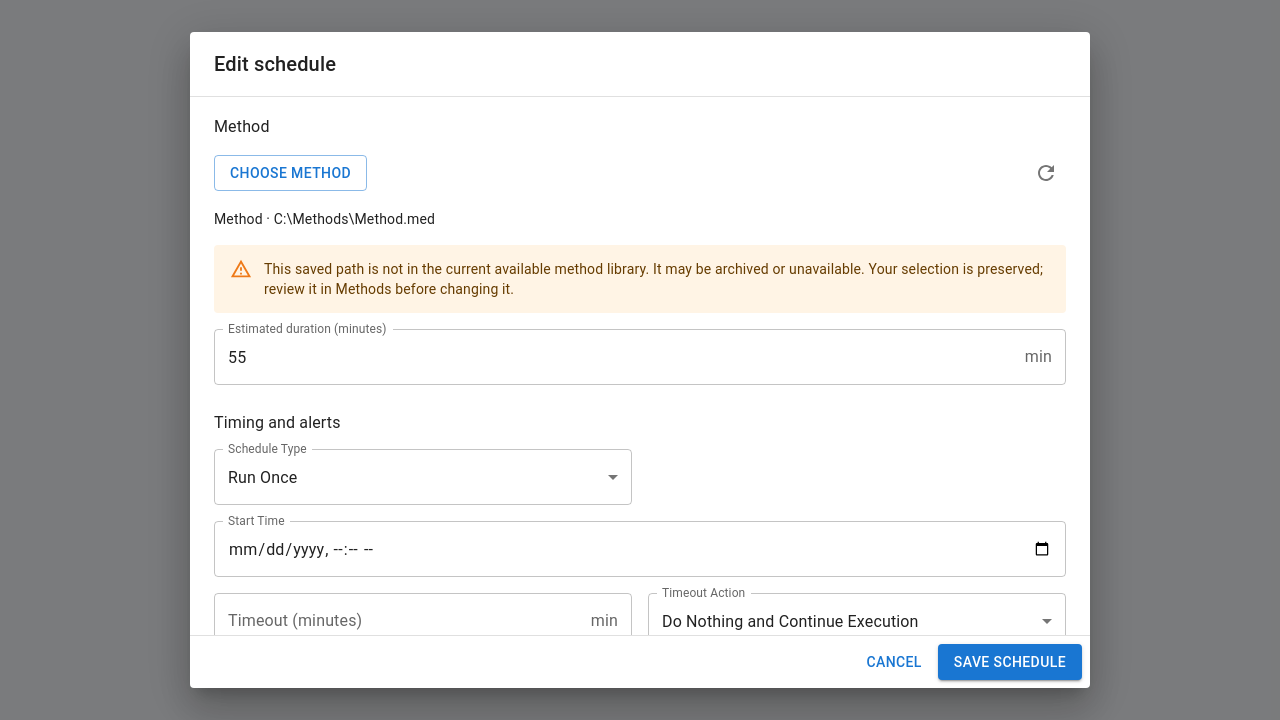
Test case: schedule draft sessions › retains the draft when an edit conflicts and explains how to reload
The width and height of the screenshot is (1280, 720).
Replace the text in the number field labelled "Estimated duration (minutes)" with "61" at (615, 357), box left=214, top=329, right=1017, bottom=385
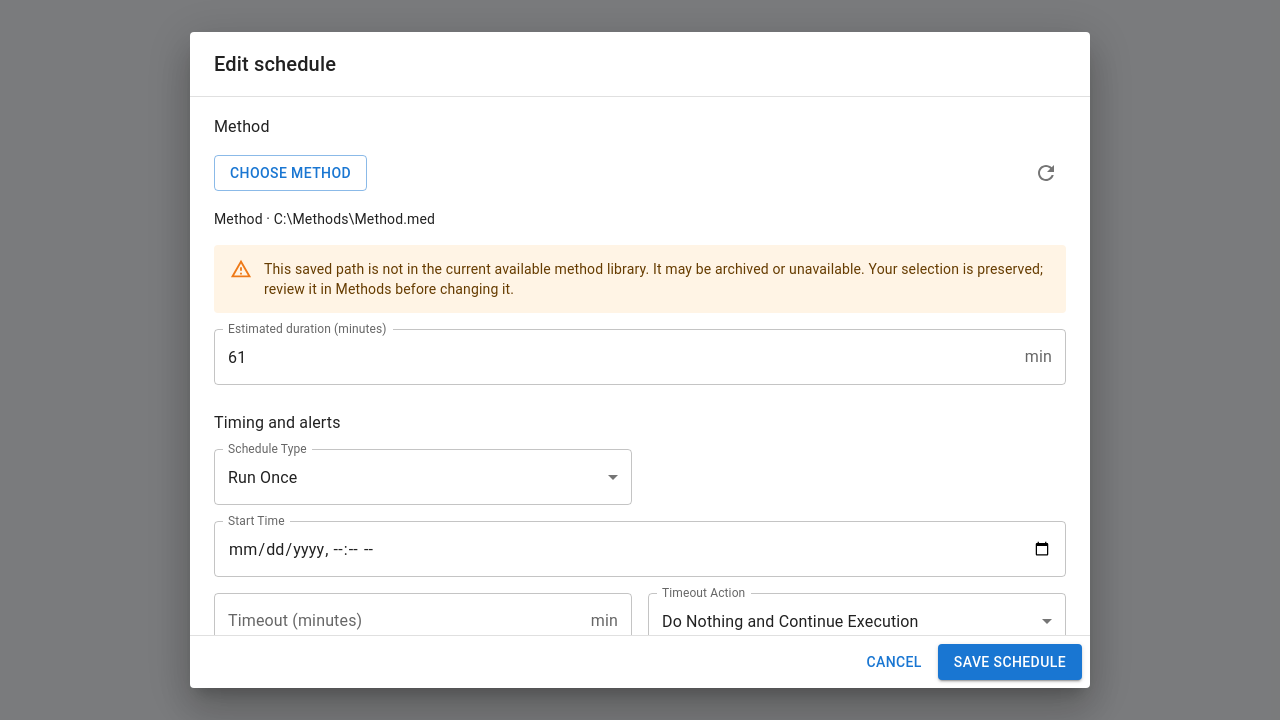
Click the button "Save schedule" at (1010, 662), box left=938, top=644, right=1082, bottom=680
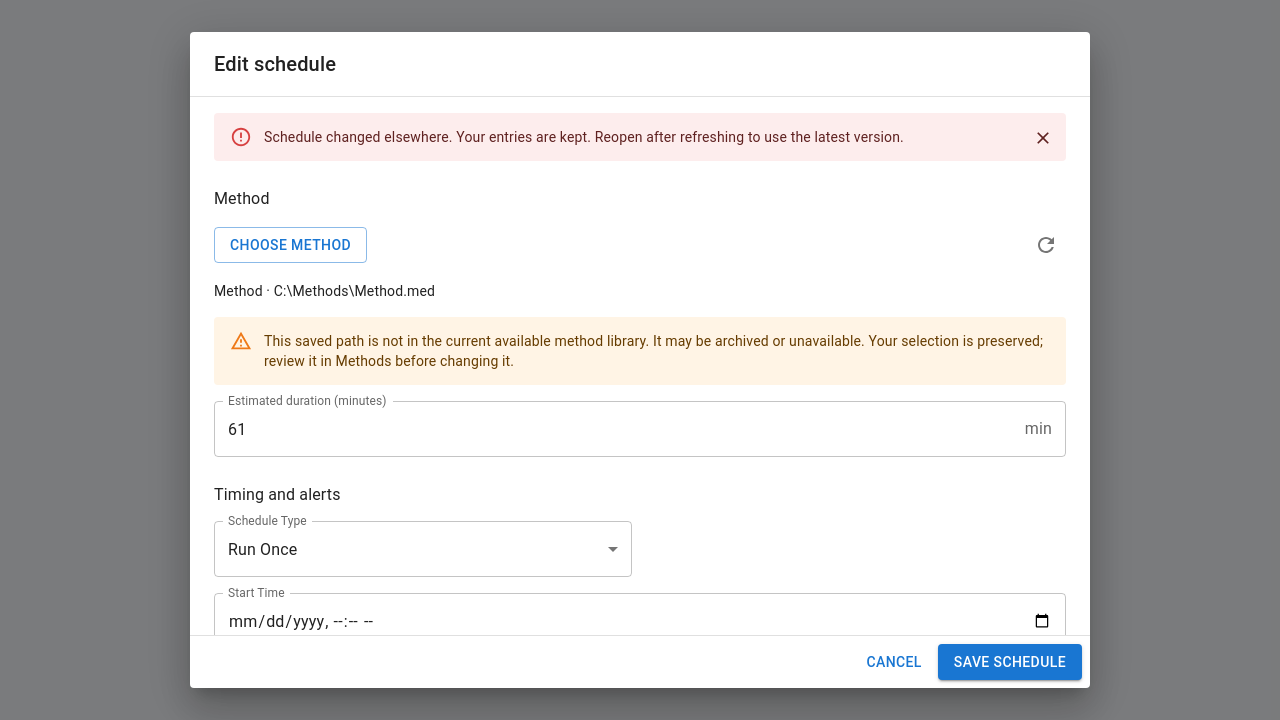
expect the text "Your entries are kept" is shown: met, box left=264, top=129, right=904, bottom=145
